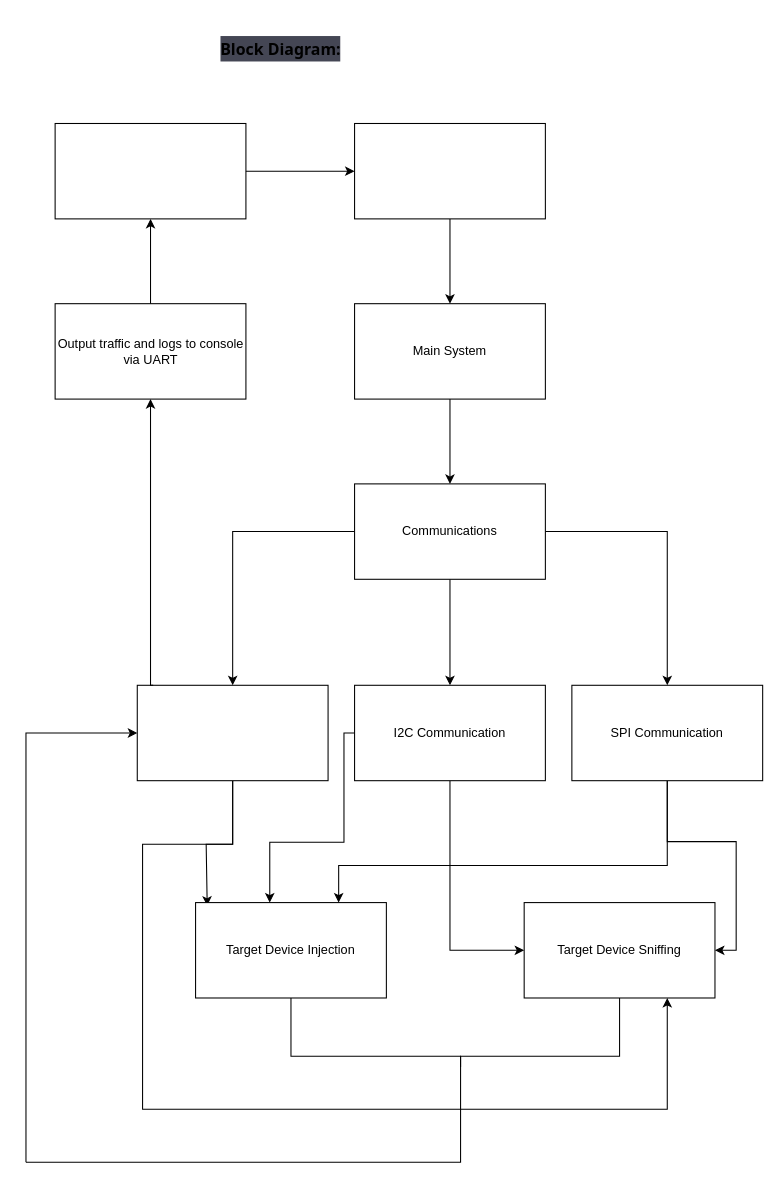
This 781x1189 diagram has some shape labels left out. Each missing label, with the box of its shape:
Host Console: (54, 122, 246, 219)
Menu Selection: (354, 122, 545, 219)
UART Communication: (136, 684, 328, 781)
